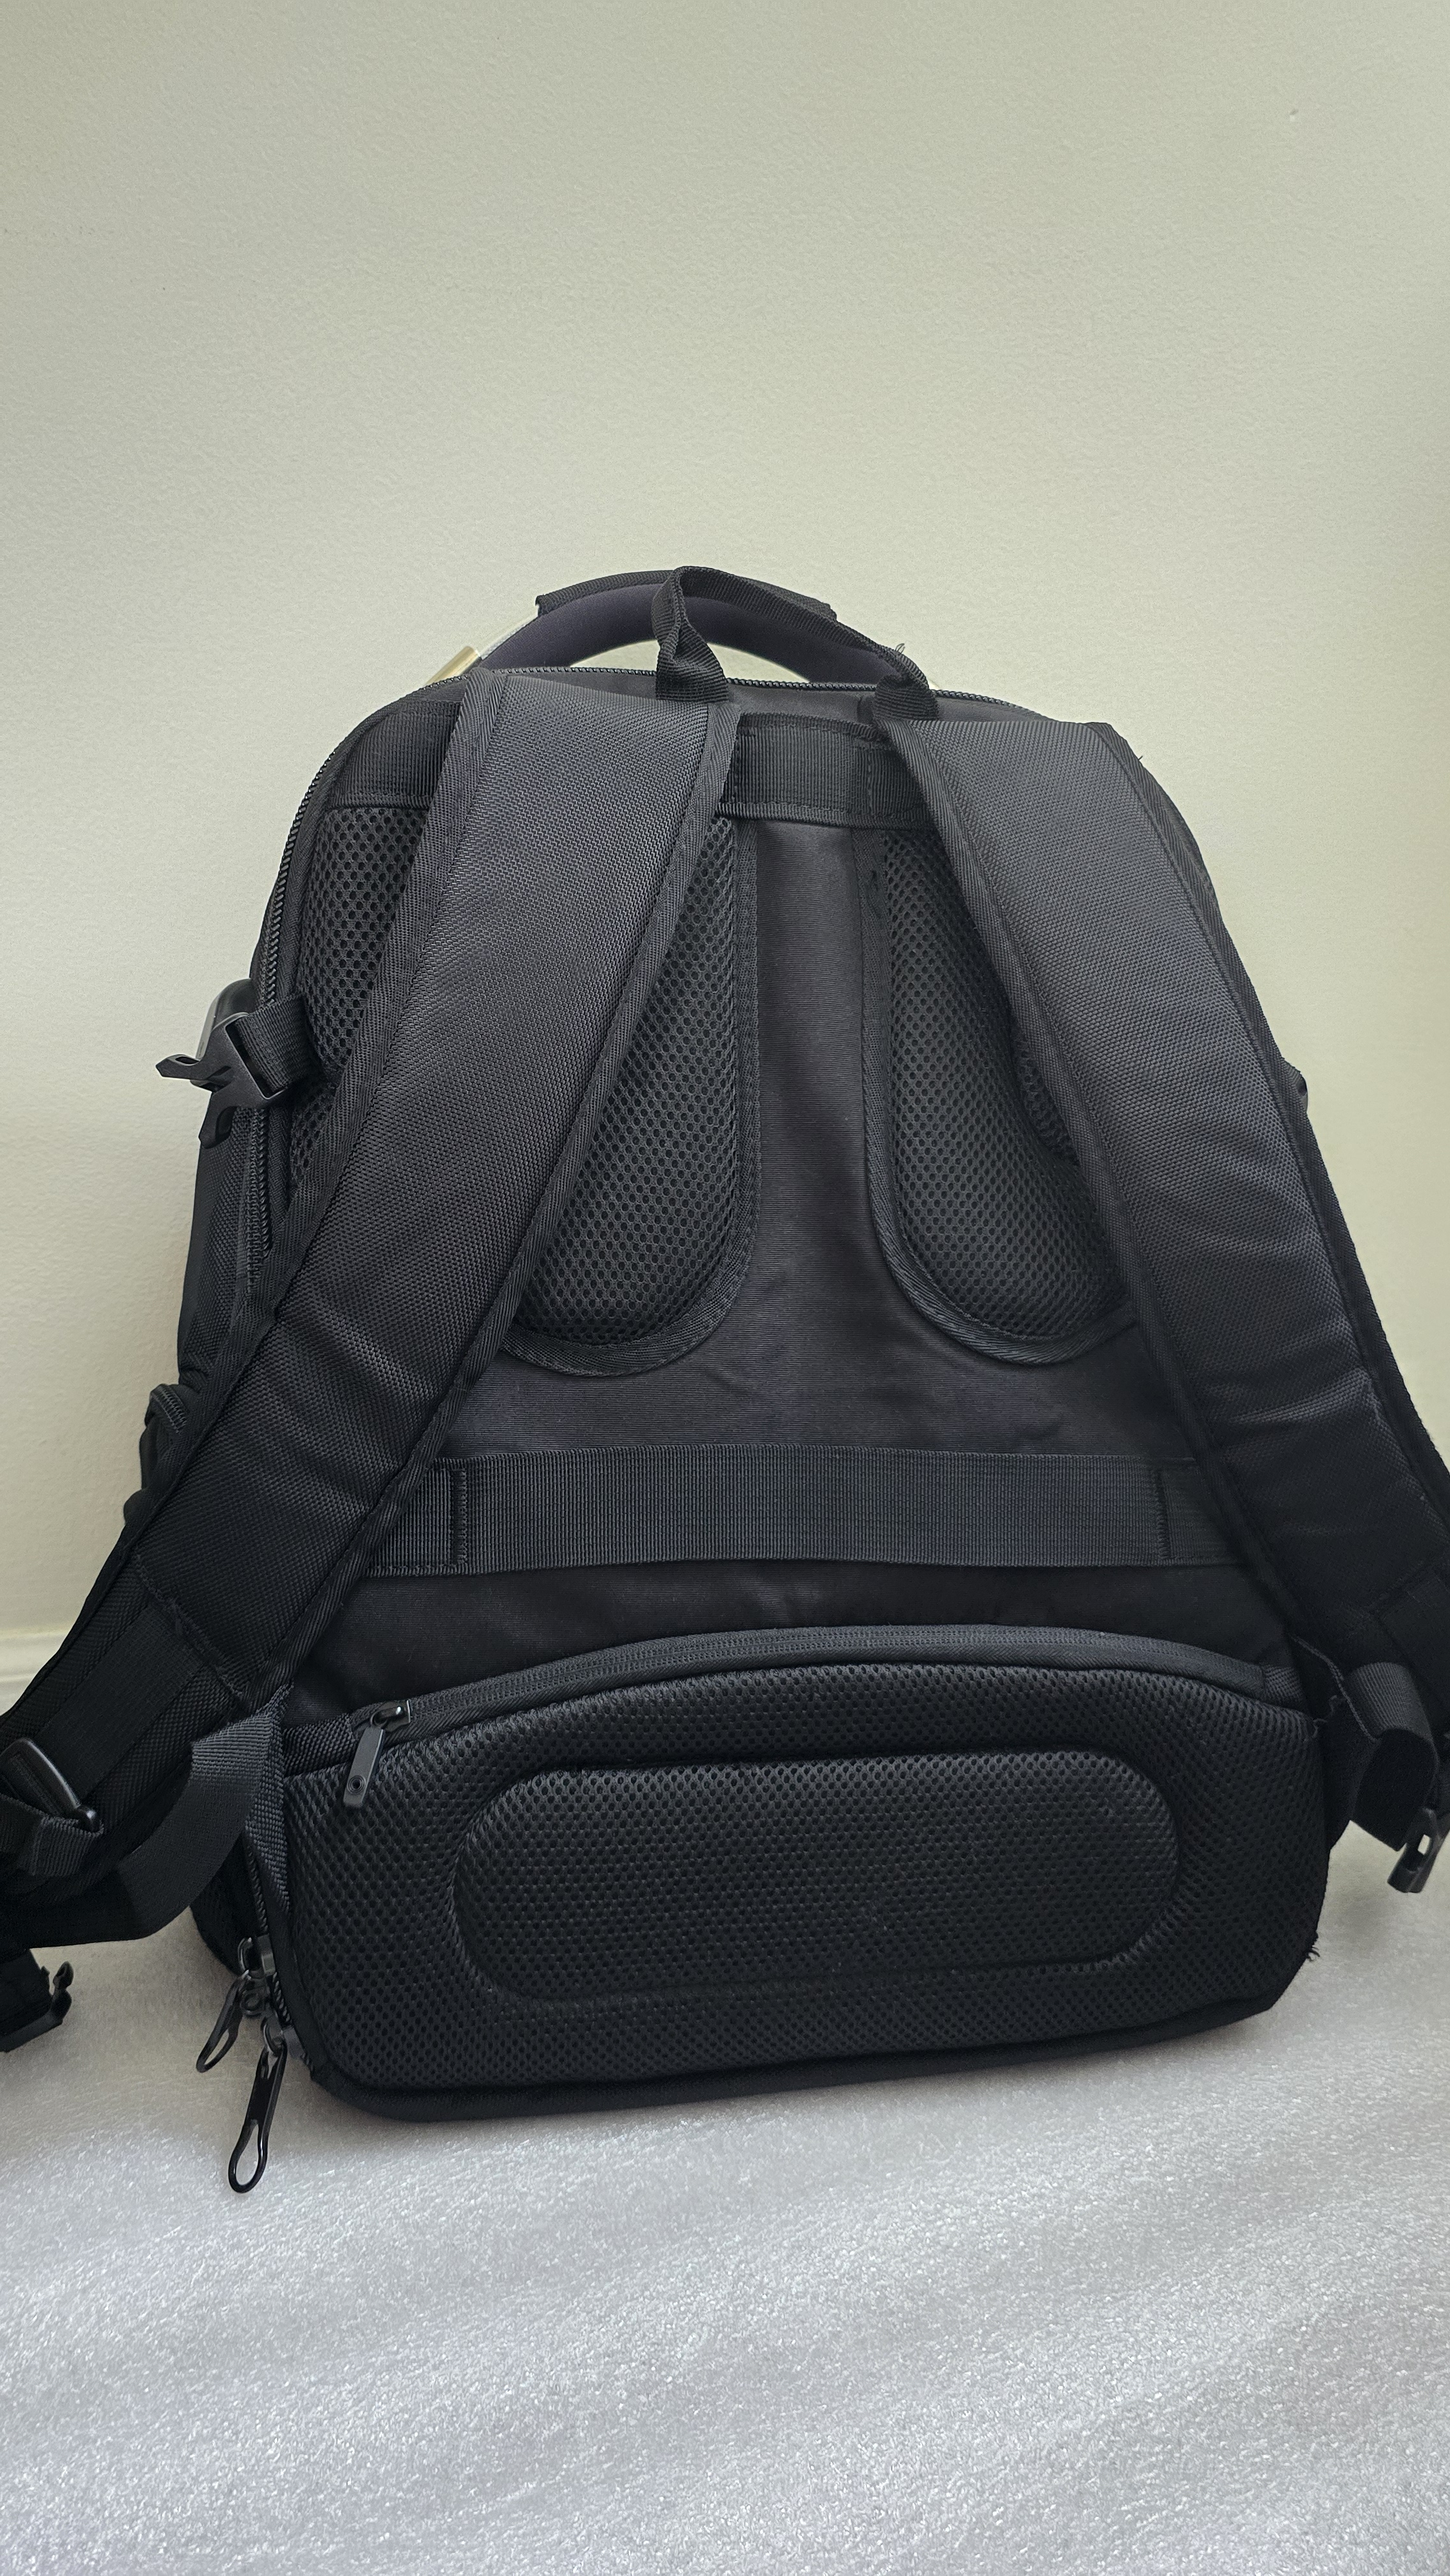bag: (133, 425, 1450, 2134)
